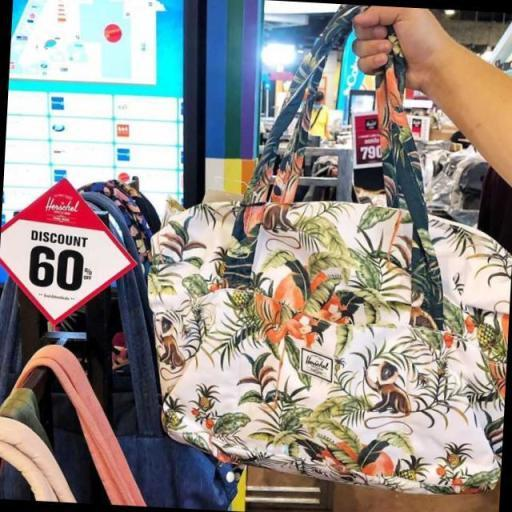bag: (145, 22, 512, 512)
